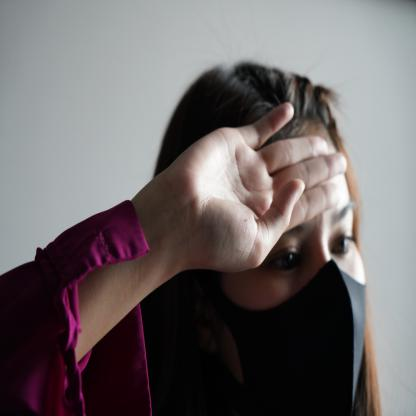Sick: (121, 89, 352, 285)
